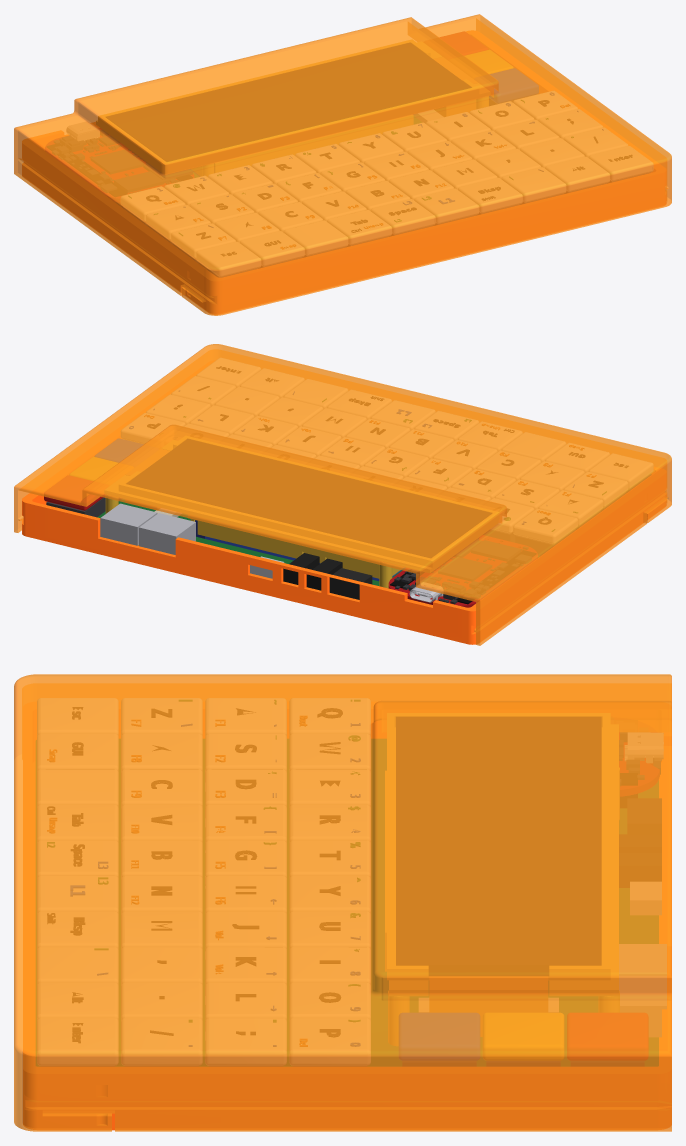
Rendered from cover_tangerine.glb.
The picture shows the model from 3 angles, top to bottom: view 1: azimuth 30°, elevation 25°; view 2: azimuth 150°, elevation 25°; view 3: azimuth 270°, elevation 25°; orthographic projection. The views are drawn at different scales.
Parts seen in each view (by area): view 1: Lid, Internals, Tray; view 2: Lid, Internals, Tray; view 3: Lid, Internals, Tray.
Part boxes in pixels (x1,y1,x2,y2): Lid: (14, 14, 671, 315); Internals: (45, 32, 652, 276); Tray: (22, 31, 665, 314); Lid: (14, 344, 671, 645); Internals: (44, 358, 652, 607); Tray: (22, 361, 665, 644); Lid: (14, 674, 671, 1131); Internals: (36, 698, 666, 1065); Tray: (23, 702, 671, 1130).
Bounding box in the file's own units: 0.1818 × 0.0232 × 0.133.
